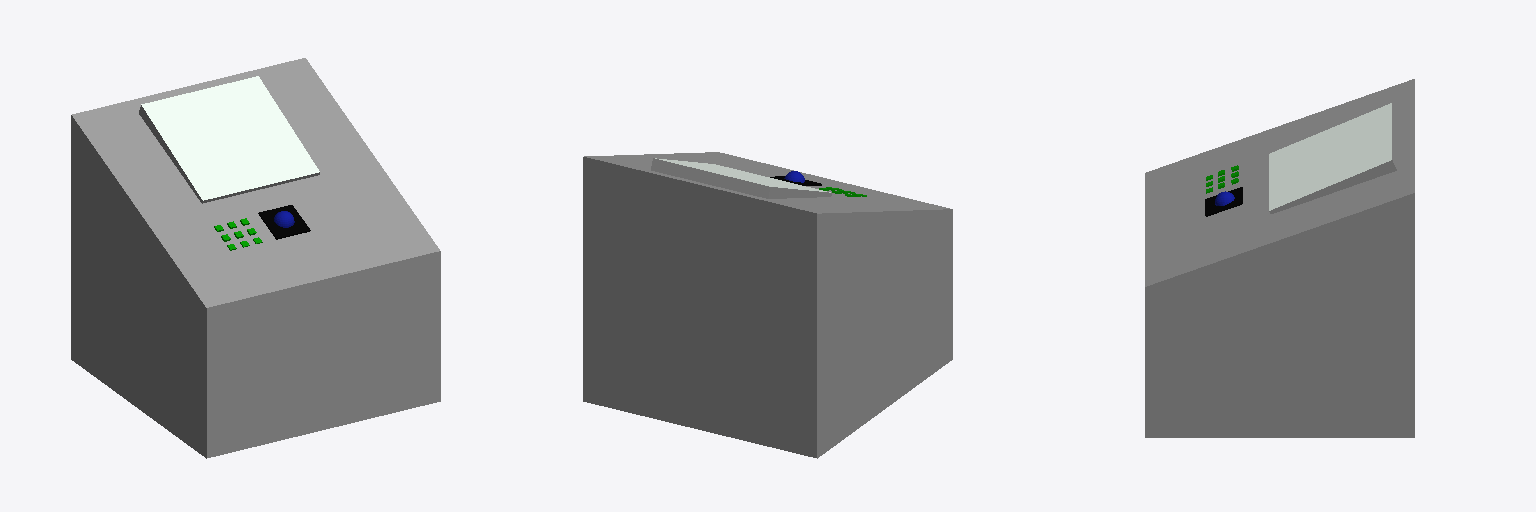
The model's file is console.obj.
3 views of the same model, side by side, from view 1: azimuth 30°, elevation 25°; view 2: azimuth 150°, elevation 25°; view 3: azimuth 270°, elevation 25° (orthographic).
Visible parts, largest first — view 1: Cube_Cube.001; view 2: Cube_Cube.001; view 3: Cube_Cube.001.
Boxes of the visible parts, box(x1,y1,x2,y2) form: Cube_Cube.001: box(71, 58, 440, 458); Cube_Cube.001: box(583, 152, 952, 458); Cube_Cube.001: box(1145, 79, 1414, 437).
Size of the model in its own units: 2 by 2.03 by 2.